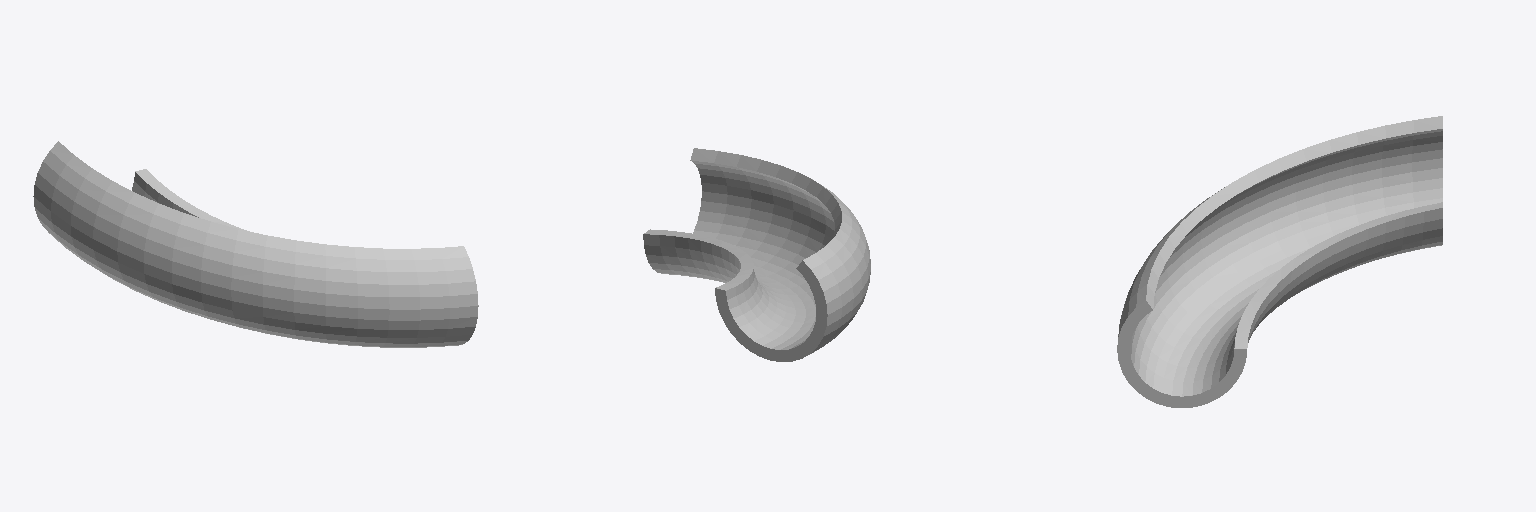
File: turn_left3.obj
3 renders of one model, left to right at view 1: azimuth 30°, elevation 25°; view 2: azimuth 150°, elevation 25°; view 3: azimuth 270°, elevation 25°, orthographic.
Parts seen in each view (by area): view 1: TurnLeft3_Circle.010; view 2: TurnLeft3_Circle.010; view 3: TurnLeft3_Circle.010.
Boxes of the visible parts, x1,y1,x2,y2 form: TurnLeft3_Circle.010: [33, 141, 478, 347]; TurnLeft3_Circle.010: [643, 148, 870, 361]; TurnLeft3_Circle.010: [1117, 116, 1442, 407].
Bounding box in the file's own units: 5 × 2.83 × 5.